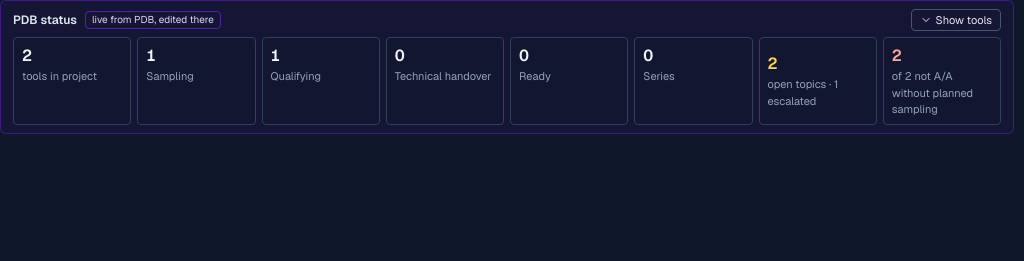
PdbStatusBox › shows tools per status and one row per tool
Click the button with test id "pdb-box-toggle" at [956, 20], box [911,9,1001,31]
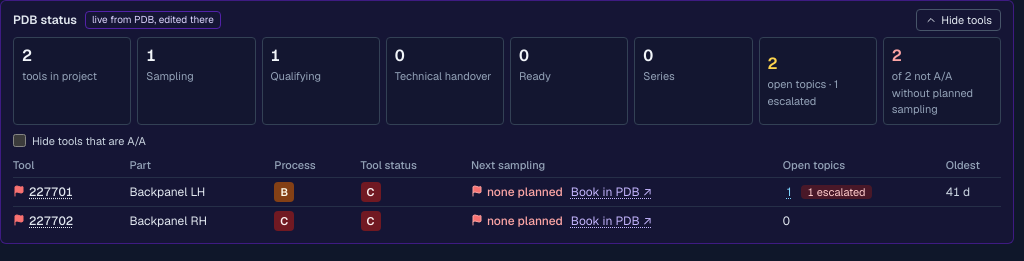
Check: the number of rows with test id "pdb-tool-row" is 2, box [13,178,1001,206]; [13,206,1001,235]
Check: the row with test id "pdb-tool-row" shows "227701", box [29,184,73,200]
Check: the row with test id "pdb-tool-row" shows "Backpanel LH", box [129,184,205,200]
